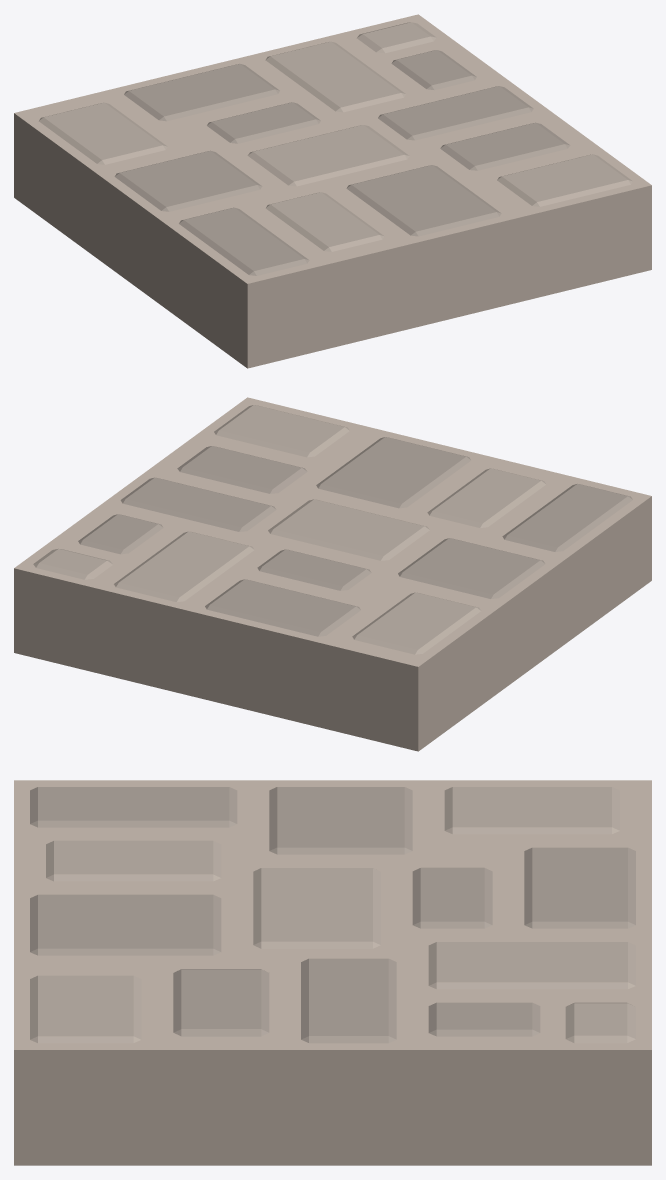
The model's file is pisoPiedra1.glb.
3 renders of one model, top to bottom at view 1: azimuth 30°, elevation 25°; view 2: azimuth 150°, elevation 25°; view 3: azimuth 270°, elevation 25°, orthographic. The views are drawn at different scales.
Parts seen in each view (by area): view 1: object1; view 2: object1; view 3: object1.
Boxes of the visible parts, box(x1,y1,x2,y2) form: object1: box(14, 14, 651, 368); object1: box(14, 397, 651, 751); object1: box(14, 780, 651, 1165).
Size of the model in its own units: 1 by 0.2063 by 1.
